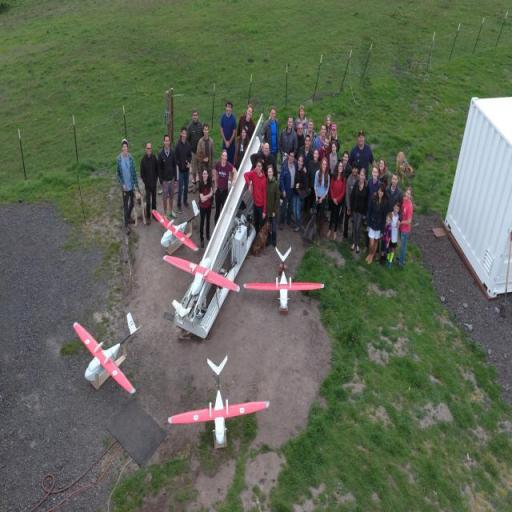uav: (166, 347, 276, 455)
